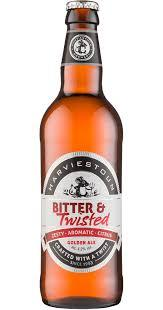Glass bottle: (24, 1, 130, 310)
